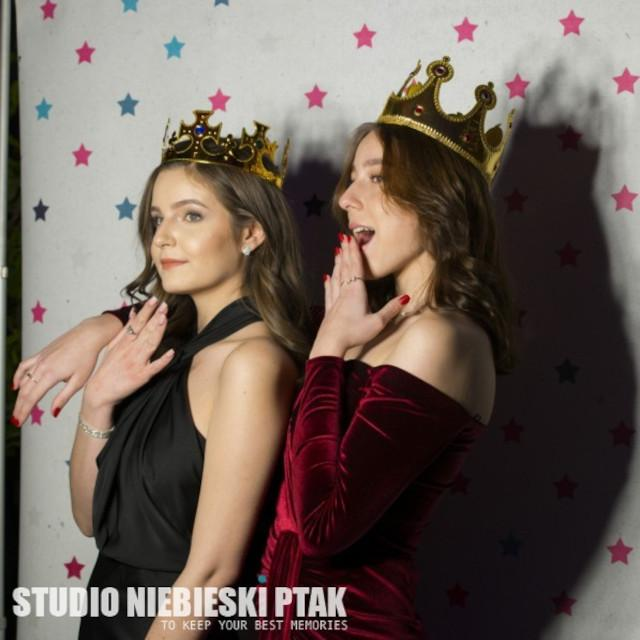kobieta: (281, 117, 499, 640), (78, 135, 294, 640)
